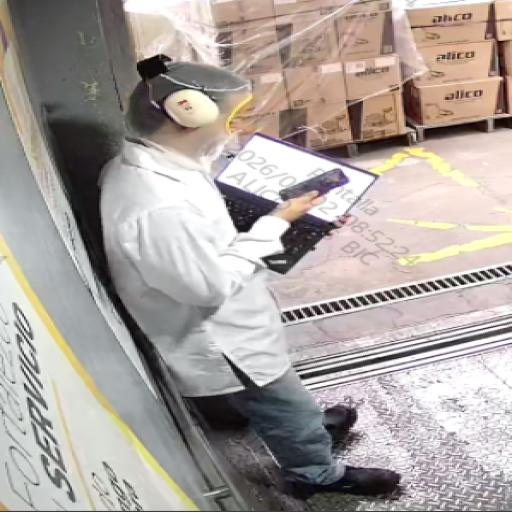person: (21, 24, 503, 512)
